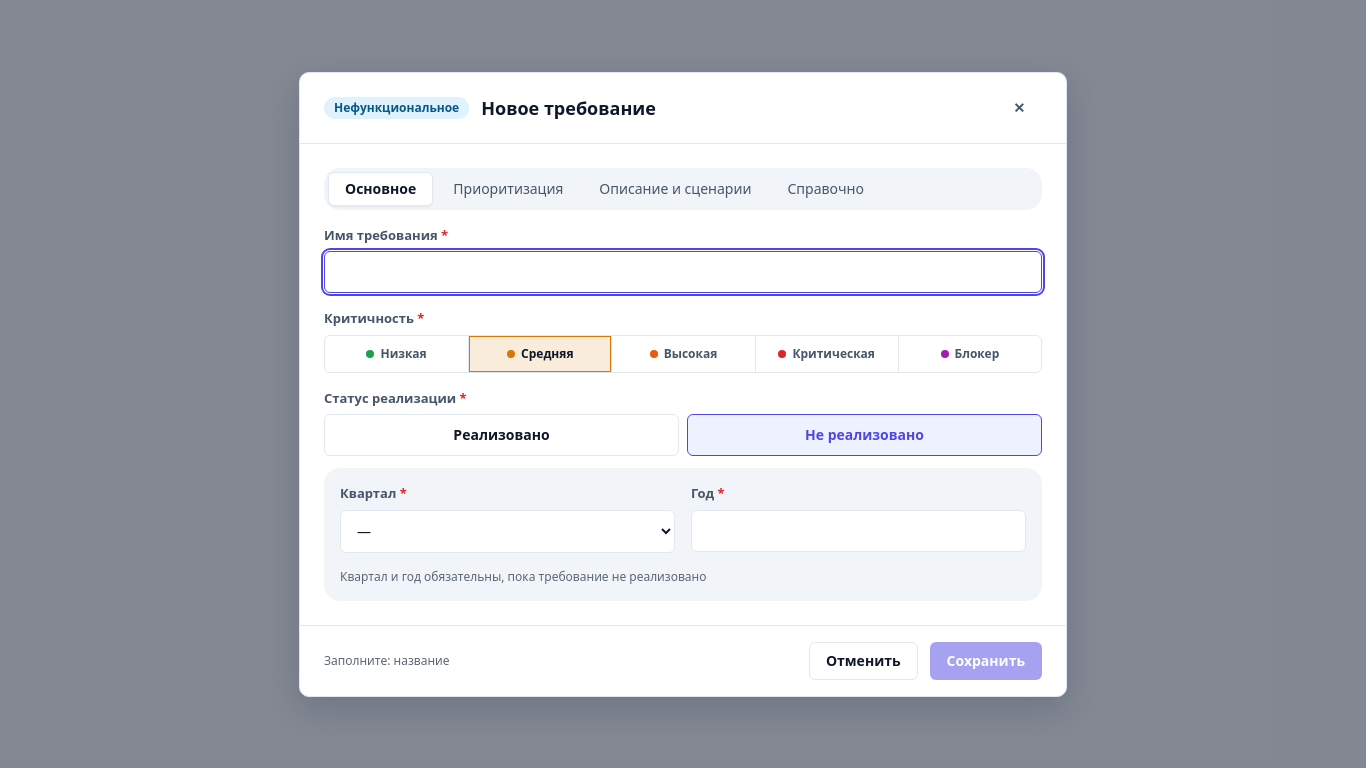
Scenario: RequirementModal (T-1106, FR-6) › shows the type badge and a live character counter
Check: the text with test id "requirement-modal-badge" reads "Нефункциональное", box [334,98,459,116]
// ФТ-E3: описание и счётчик — на вкладке «Описание и сценарии».
Click the tab with test id "req-tab-desc". click: [675, 188]
box: [583,172,768,206]
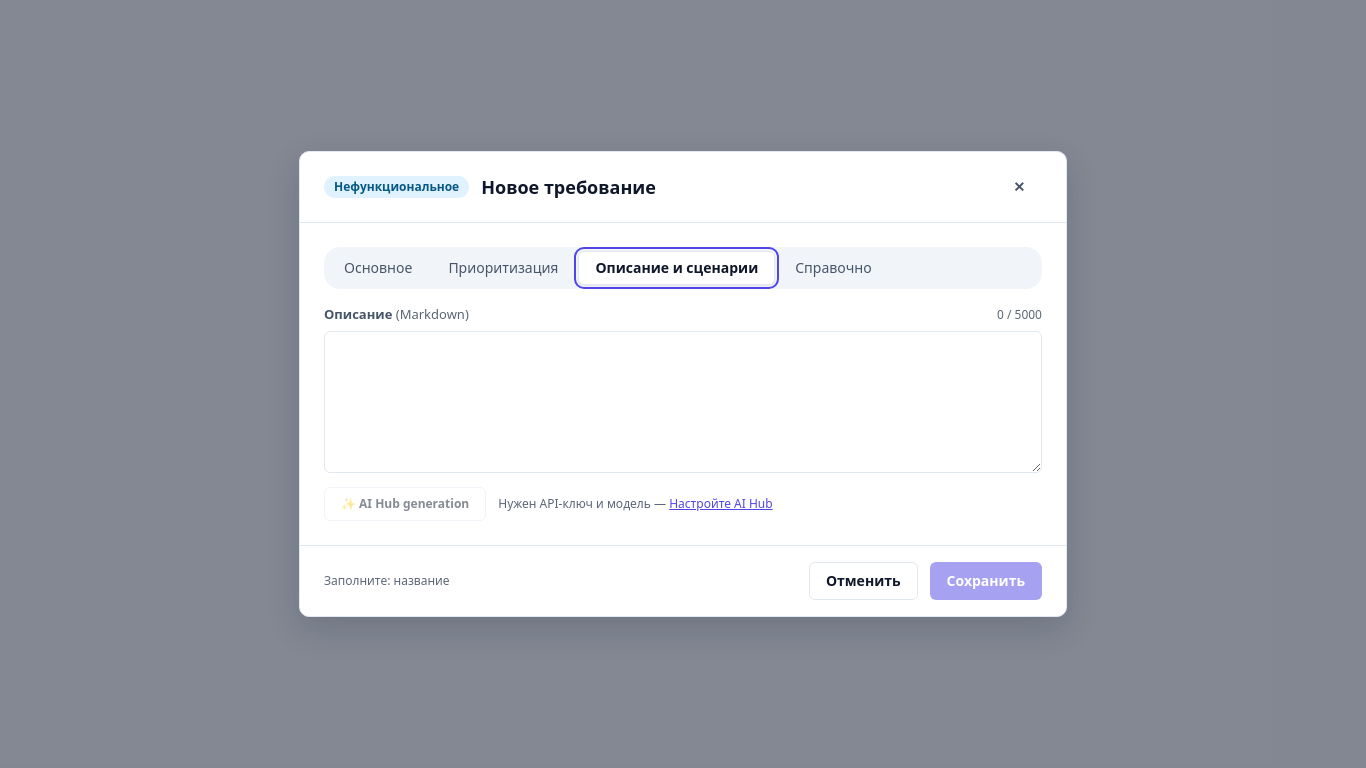
Check: the text with test id "req-desc-count" reads "0 / 5000", box [997,307,1042,323]
Type "Привет" into the text box with test id "req-description". click: [683, 402]
box: [324,331,1042,473]
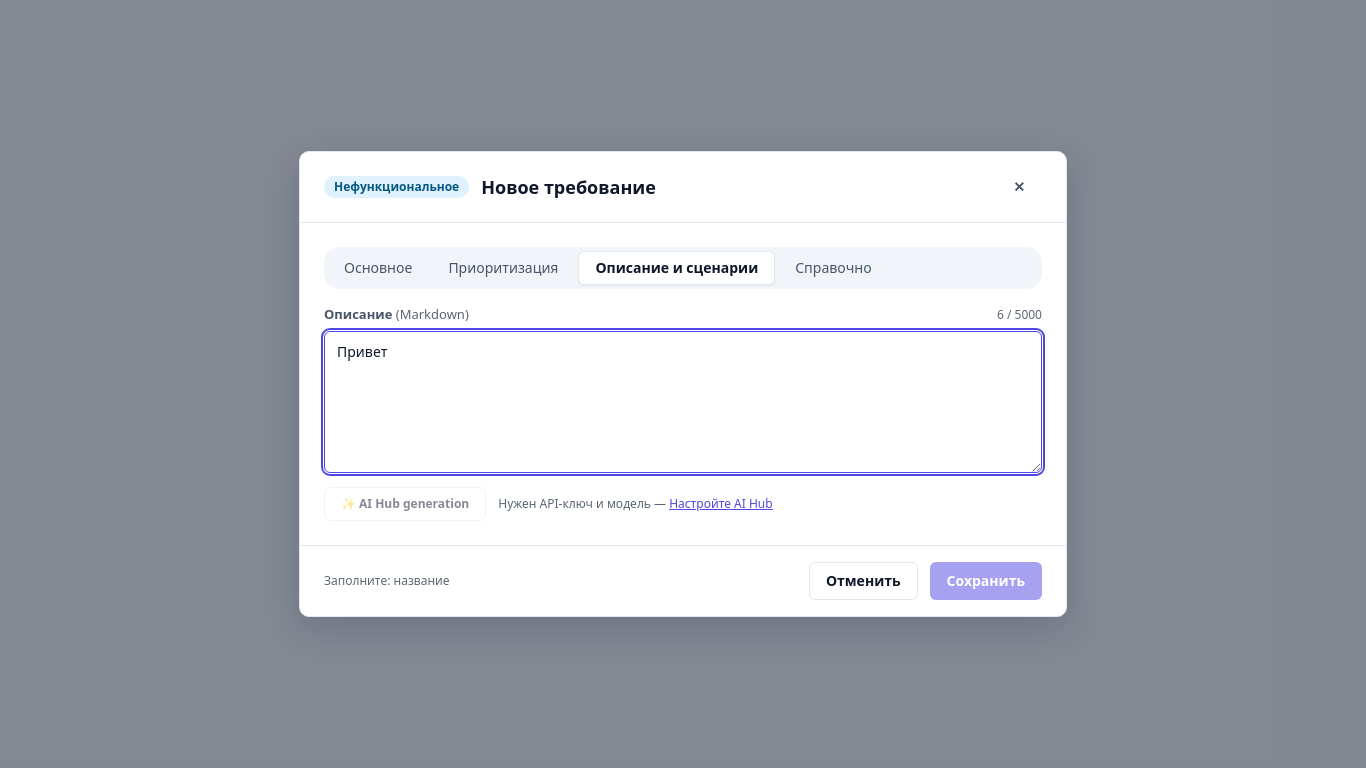
Check: the text with test id "req-desc-count" reads "6 / 5000", box [997,307,1042,323]
